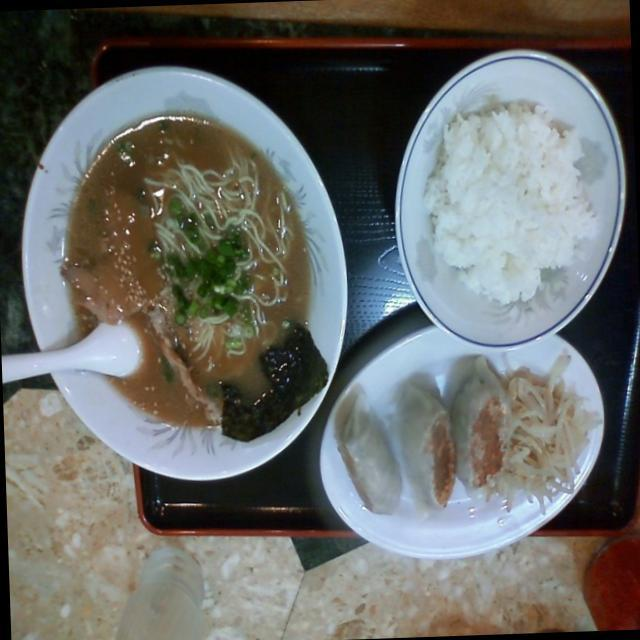Rice: (406, 80, 612, 326)
